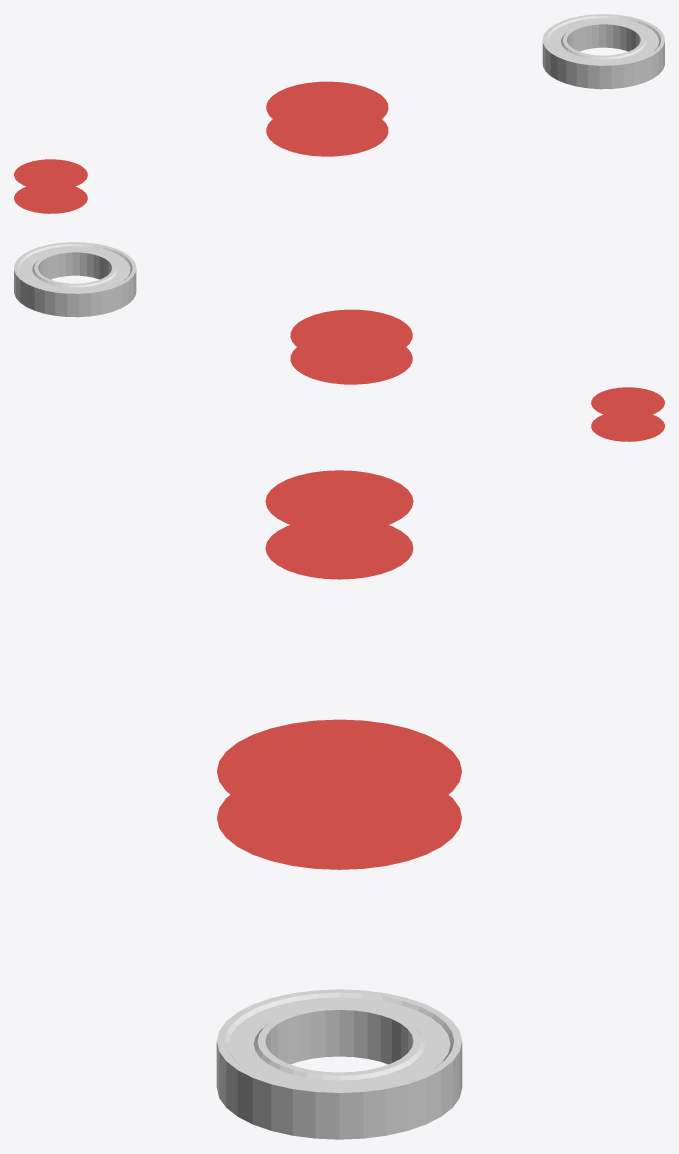
The model's file is Mast Bearing.fbx.
3 views of the same model, one above another, from view 1: azimuth 30°, elevation 25°; view 2: azimuth 150°, elevation 25°; view 3: azimuth 270°, elevation 25° (orthographic). The views are drawn at different scales.
Visible parts, largest first — view 1: 12.A, 12, 12.B; view 2: 12.A, 12, 12.B; view 3: 12.A, 12, 12.B.
Boxes of the visible parts, left/top/right/bottom form: 12.A: left=266, top=81, right=388, bottom=156; 12: left=542, top=14, right=664, bottom=89; 12.B: left=14, top=159, right=87, bottom=213; 12.A: left=290, top=309, right=412, bottom=384; 12: left=14, top=242, right=136, bottom=317; 12.B: left=591, top=387, right=664, bottom=441; 12.A: left=217, top=719, right=461, bottom=869; 12: left=216, top=989, right=462, bottom=1139; 12.B: left=265, top=470, right=413, bottom=579.
Bounding box in the file's own units: 231 × 8.06 × 38.43.
